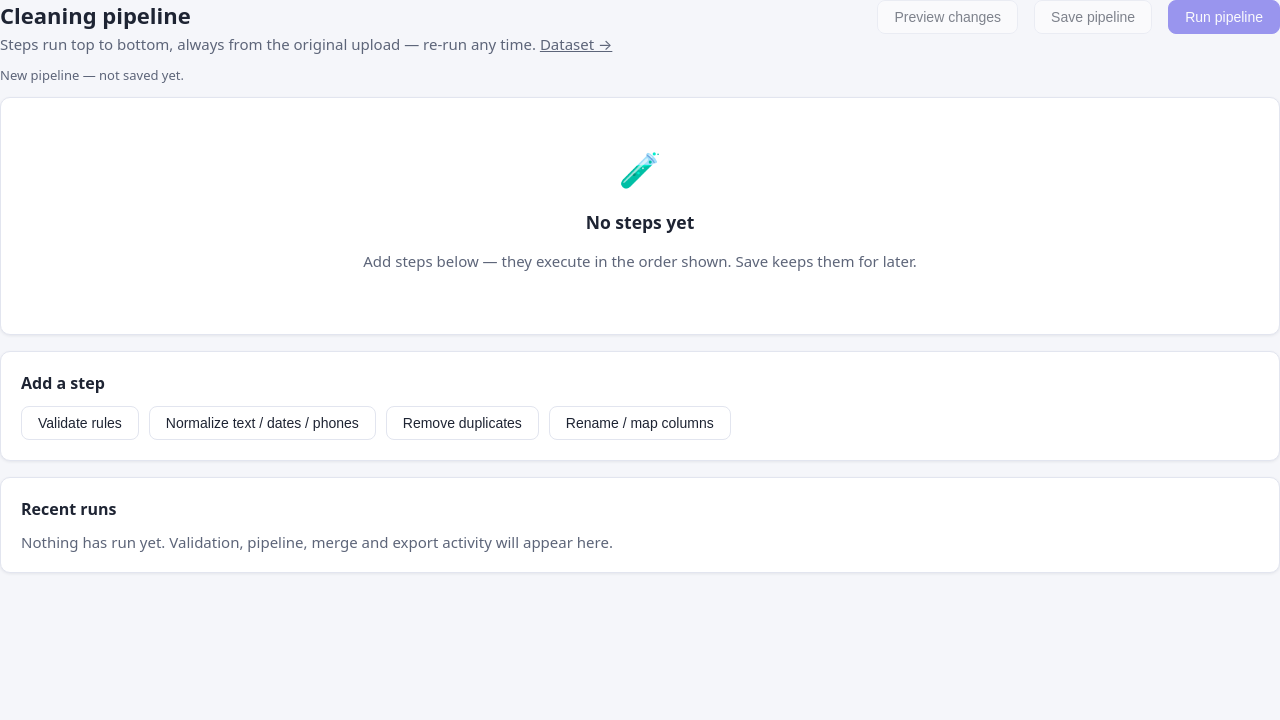
Test case: PipelinePage (editor) › runs the pipeline (auto-saving first) and shows step results
expect the element with test id "pipeline-empty" is shown: met, box [0, 97, 1279, 335]
Click the button "Remove duplicates". click: (462, 423)
box: [386, 406, 539, 440]
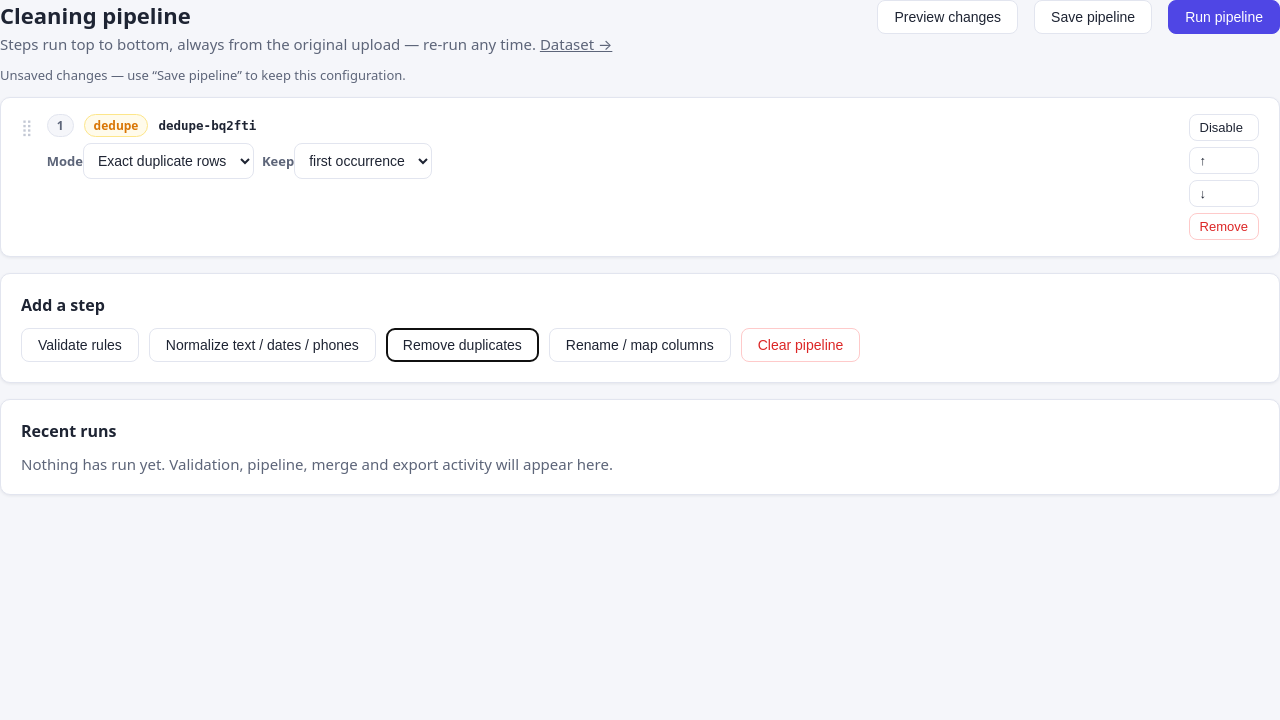
Click the button "Run pipeline". click: (1224, 17)
box: [1168, 0, 1279, 34]
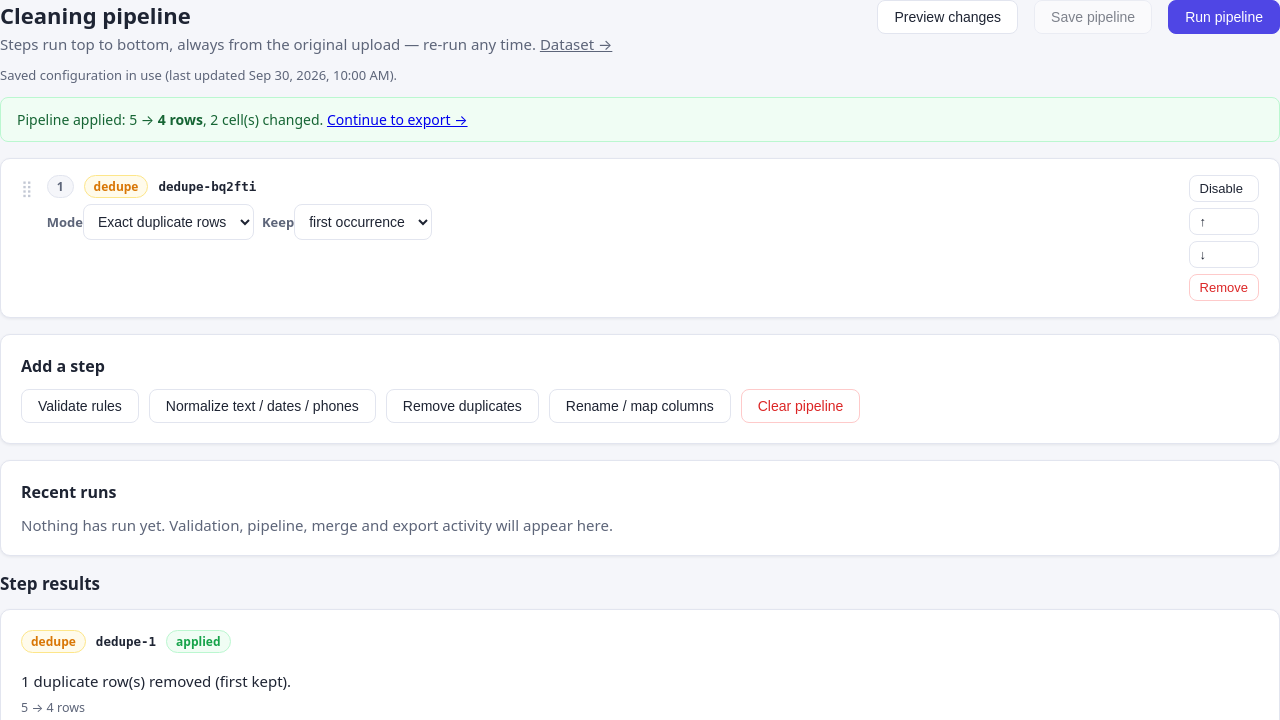
expect the 1st text "dedupe" is shown: met, box [84, 175, 148, 198]
expect the text with test id "save-state" shows "Saved configuration in use": met, box [0, 66, 397, 84]
